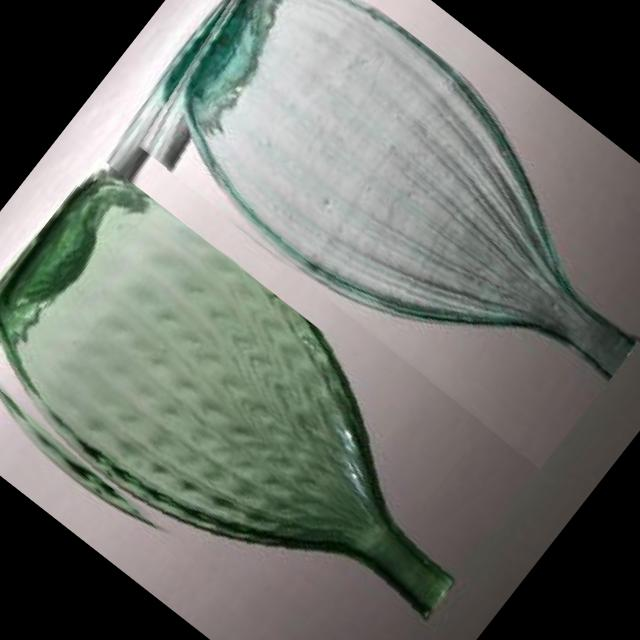Glass: (0, 156, 530, 640), (111, 0, 640, 469)
